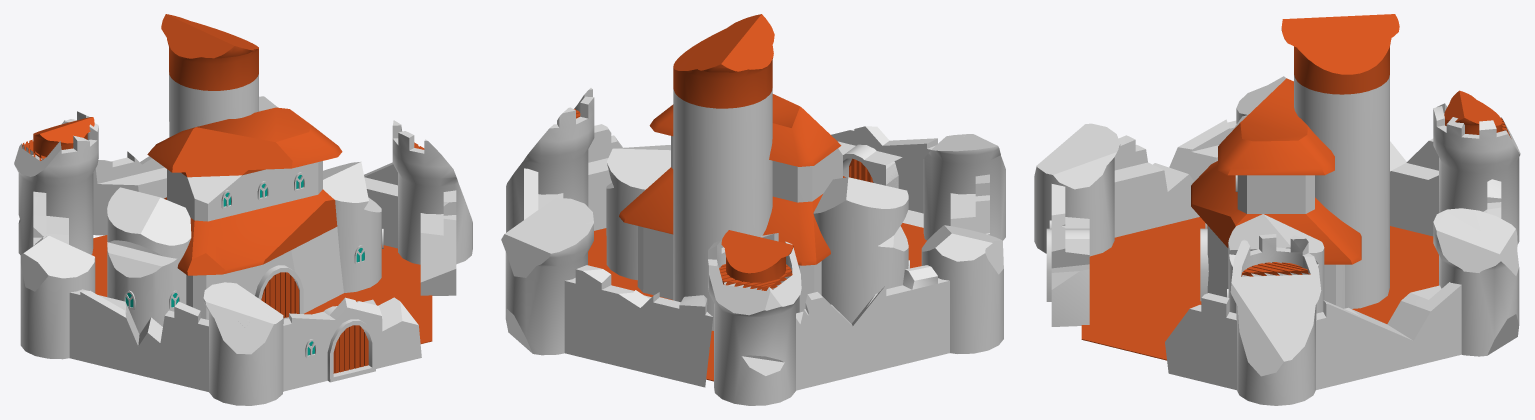
File: Hex_Castle_UpgradeDouble_Stage3.fbx
3 views of the same model, side by side, from view 1: azimuth 30°, elevation 25°; view 2: azimuth 150°, elevation 25°; view 3: azimuth 270°, elevation 25° (orthographic). The views are drawn at different scales.
Visible parts, largest first — view 1: Hexagon_Castle_Upgrade2_UpgradeDoubled_Stage3; view 2: Hexagon_Castle_Upgrade2_UpgradeDoubled_Stage3; view 3: Hexagon_Castle_Upgrade2_UpgradeDoubled_Stage3.
Boxes of the visible parts, <box> form: Hexagon_Castle_Upgrade2_UpgradeDoubled_Stage3: <box>14,14,472,405</box>; Hexagon_Castle_Upgrade2_UpgradeDoubled_Stage3: <box>501,14,1005,405</box>; Hexagon_Castle_Upgrade2_UpgradeDoubled_Stage3: <box>1034,14,1520,405</box>.
Bounding box in the file's own units: 1106 × 600 × 989.
Materials: 1 (1 with a texture image).
